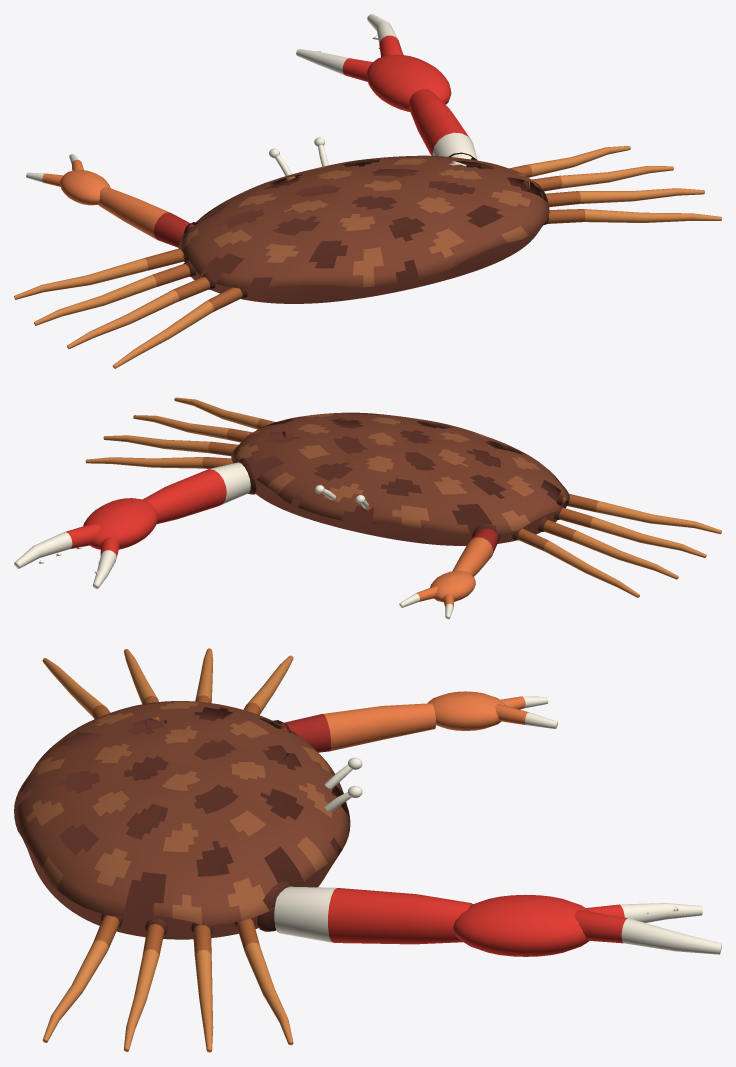
3 views of the same model, one above another, from view 1: azimuth 30°, elevation 25°; view 2: azimuth 150°, elevation 25°; view 3: azimuth 270°, elevation 25° (orthographic). The views are drawn at different scales.
Parts seen in each view (by area): view 1: carapace, walking_leg, dominant_cheliped, smaller_cheliped; view 2: carapace, walking_leg, dominant_cheliped, smaller_cheliped; view 3: carapace, dominant_cheliped, walking_leg, smaller_cheliped, eye_stalk.
Part boxes in pixels (bbox=[...]): carapace: bbox=[179, 152, 549, 303]; walking_leg: bbox=[14, 146, 721, 368]; dominant_cheliped: bbox=[296, 14, 477, 166]; smaller_cheliped: bbox=[26, 154, 194, 247]; carapace: bbox=[231, 412, 569, 545]; walking_leg: bbox=[85, 397, 721, 597]; dominant_cheliped: bbox=[14, 462, 250, 589]; smaller_cheliped: bbox=[399, 528, 498, 619]; carapace: bbox=[14, 701, 350, 939]; dominant_cheliped: bbox=[274, 886, 721, 956]; walking_leg: bbox=[42, 648, 293, 1052]; smaller_cheliped: bbox=[280, 691, 557, 752]; eye_stalk: bbox=[324, 757, 362, 812].
Size of the model in its own units: 5.82 by 0.5726 by 4.35.
